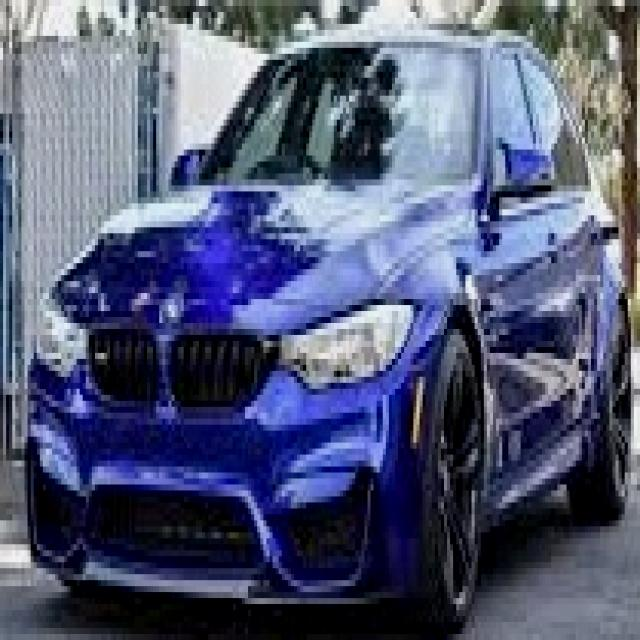blue: (31, 4, 625, 622)
